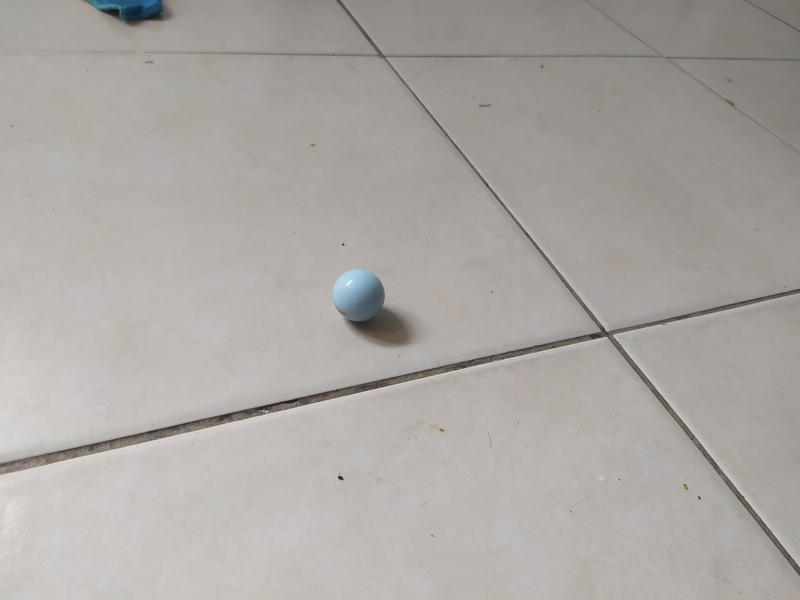Warning: (330, 267, 388, 324)
